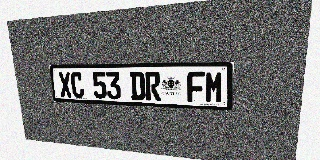3: (106, 72, 121, 99)
5: (92, 72, 107, 99)
C: (70, 72, 85, 98)
D: (130, 72, 145, 100)
F: (187, 71, 205, 103)
M: (205, 71, 224, 103)
R: (145, 72, 161, 101)
X: (58, 72, 72, 98)
